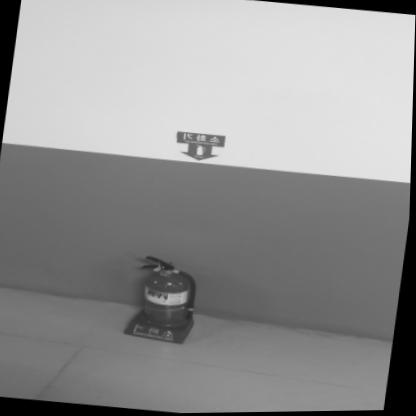FE: (128, 254, 203, 346)
